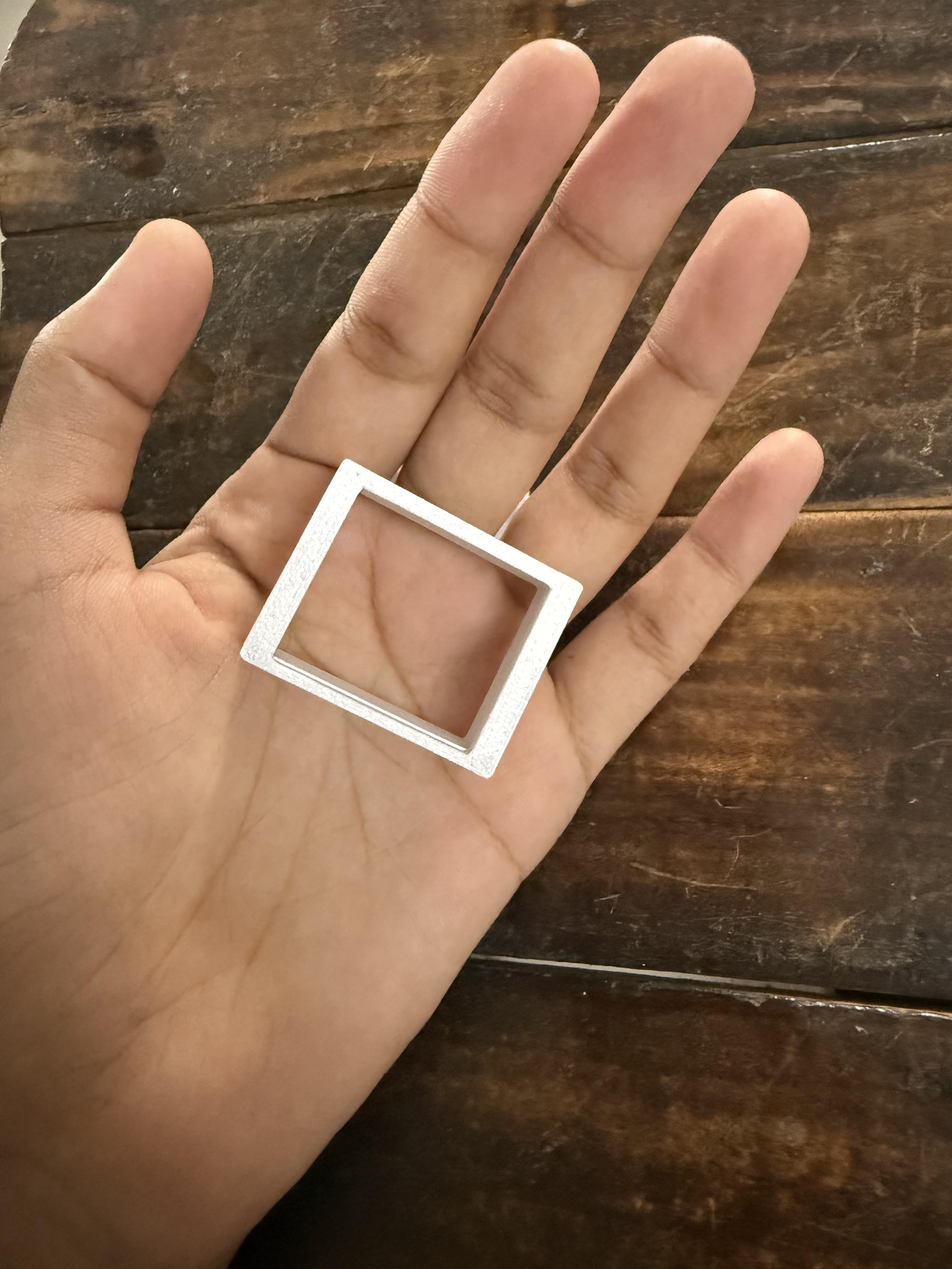enclosure: (239, 458, 586, 780)
